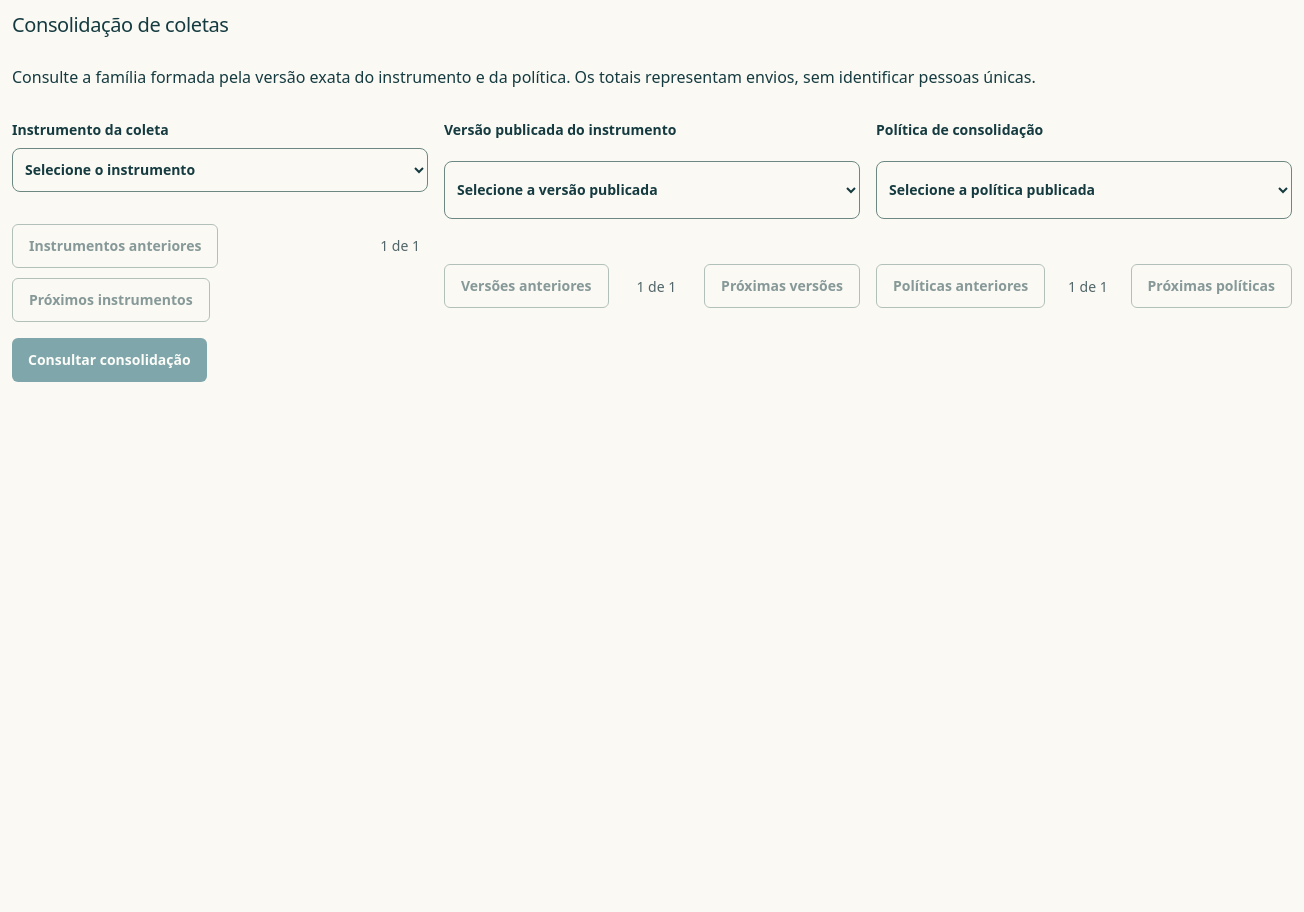
Scenario: conserva seleção após 503 e permite repetir a consulta
The width and height of the screenshot is (1304, 912).
Select "Instrumento coletivo" in the dropdown labelled "Instrumento da coleta" at (220,170), box [12,148,428,192]
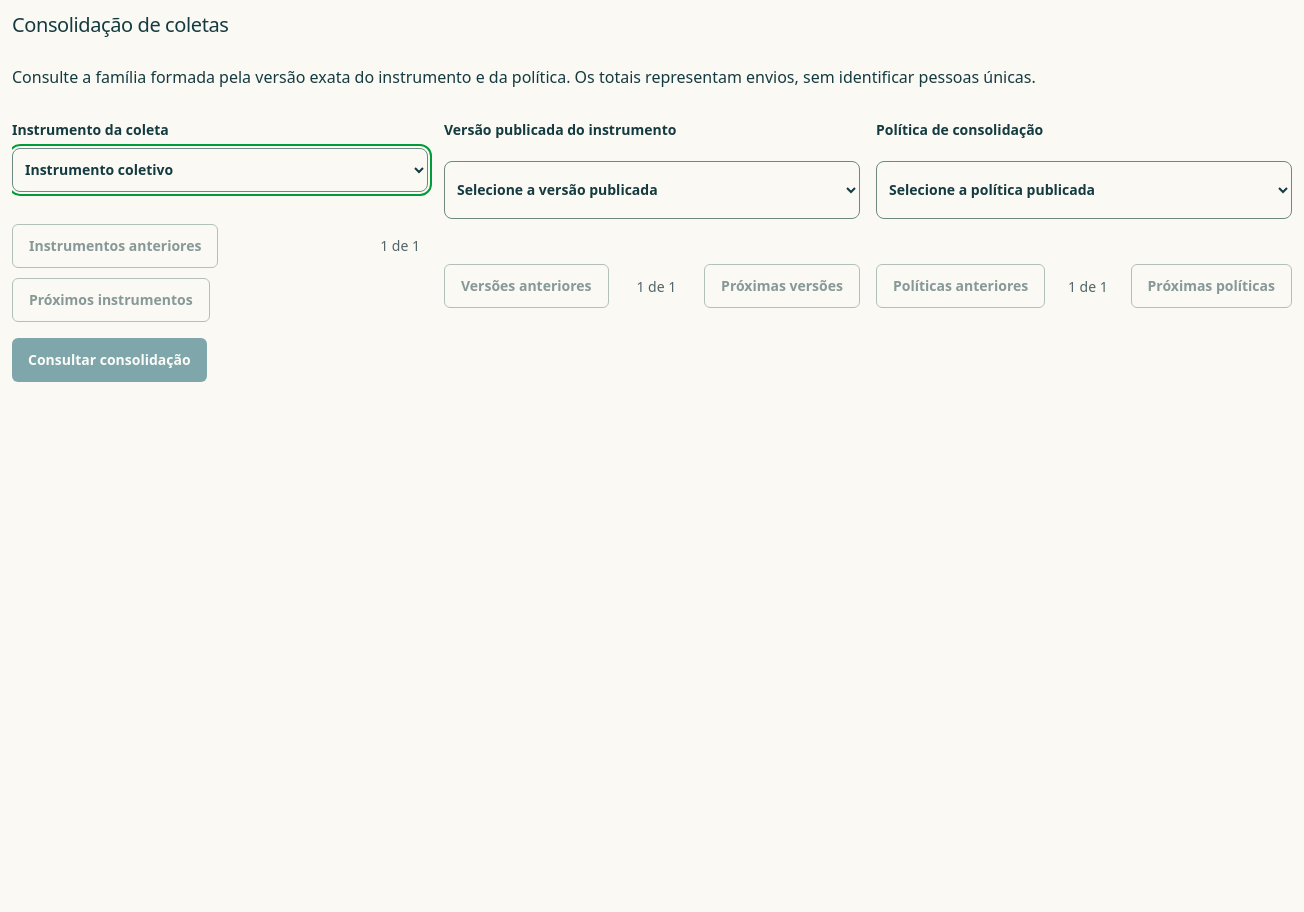
Select "Planejamento publicado · v2 · Demonstração" in the dropdown labelled "Versão publicada do instrumento" at (652,190), box [444,161,860,219]
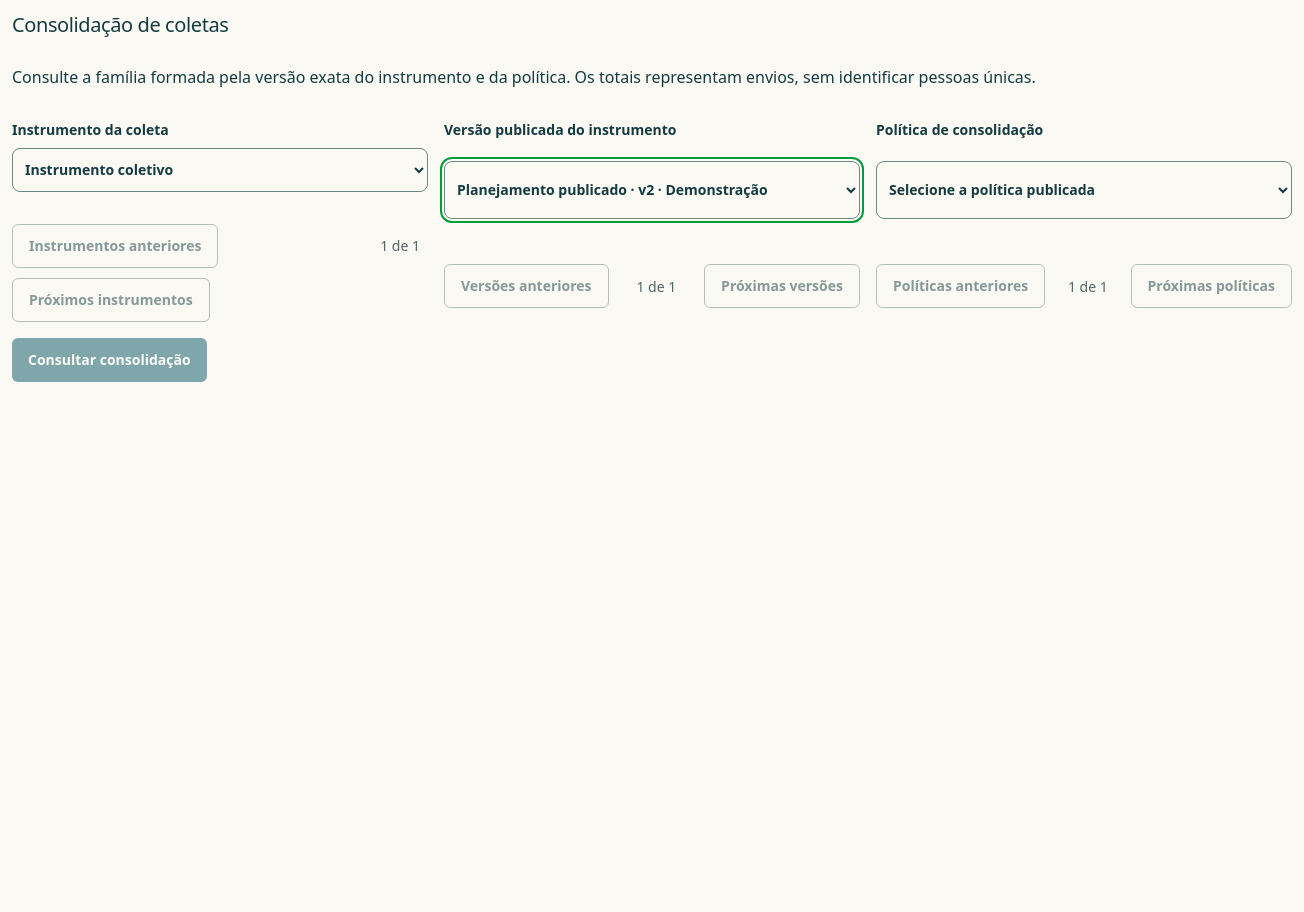
Select "Política v3 · Demonstração" in the dropdown labelled "Política de consolidação" at (1084,190), box [876,161,1292,219]
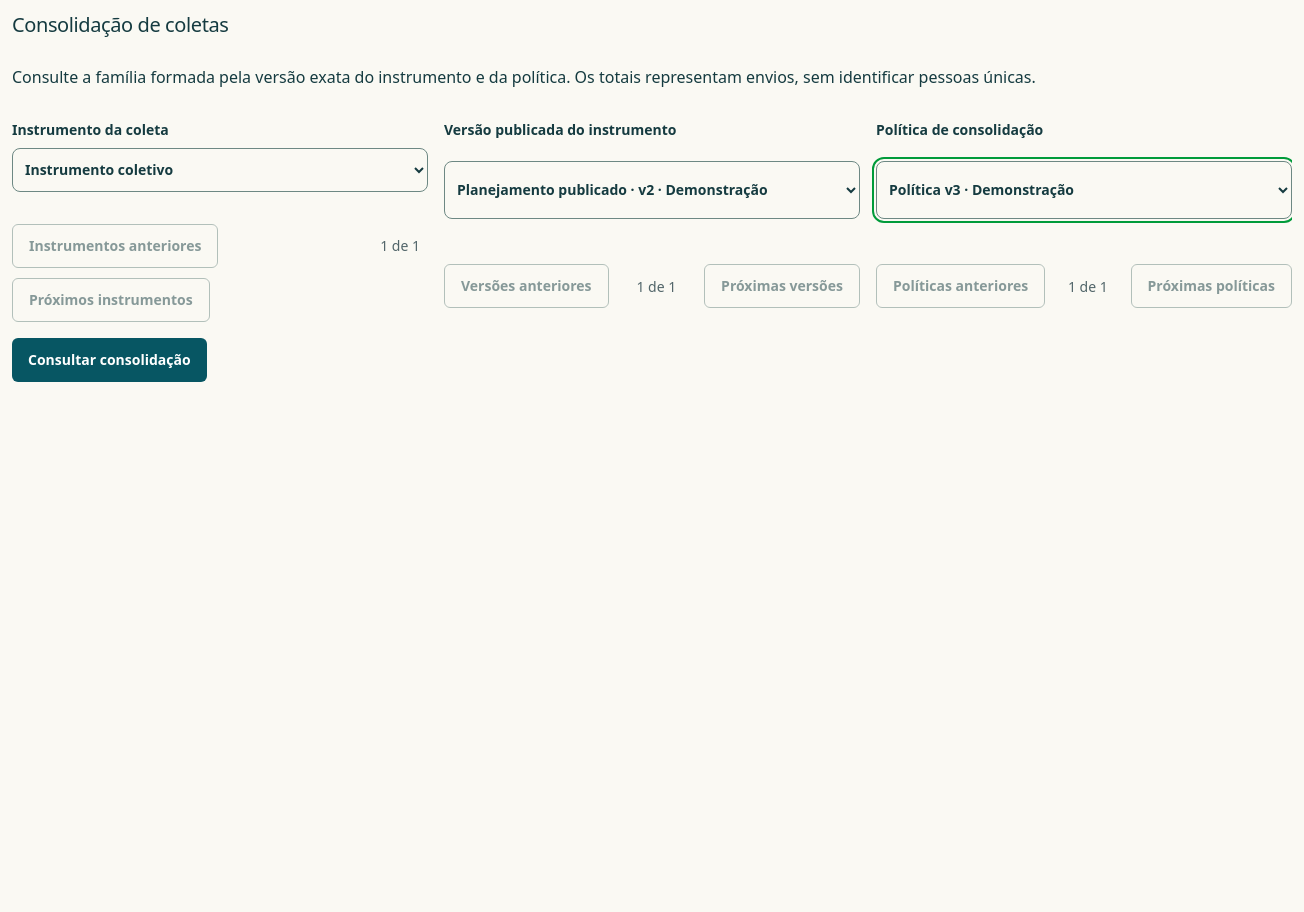
Click the button "Consultar consolidação" at (109,360), box [12,338,207,382]
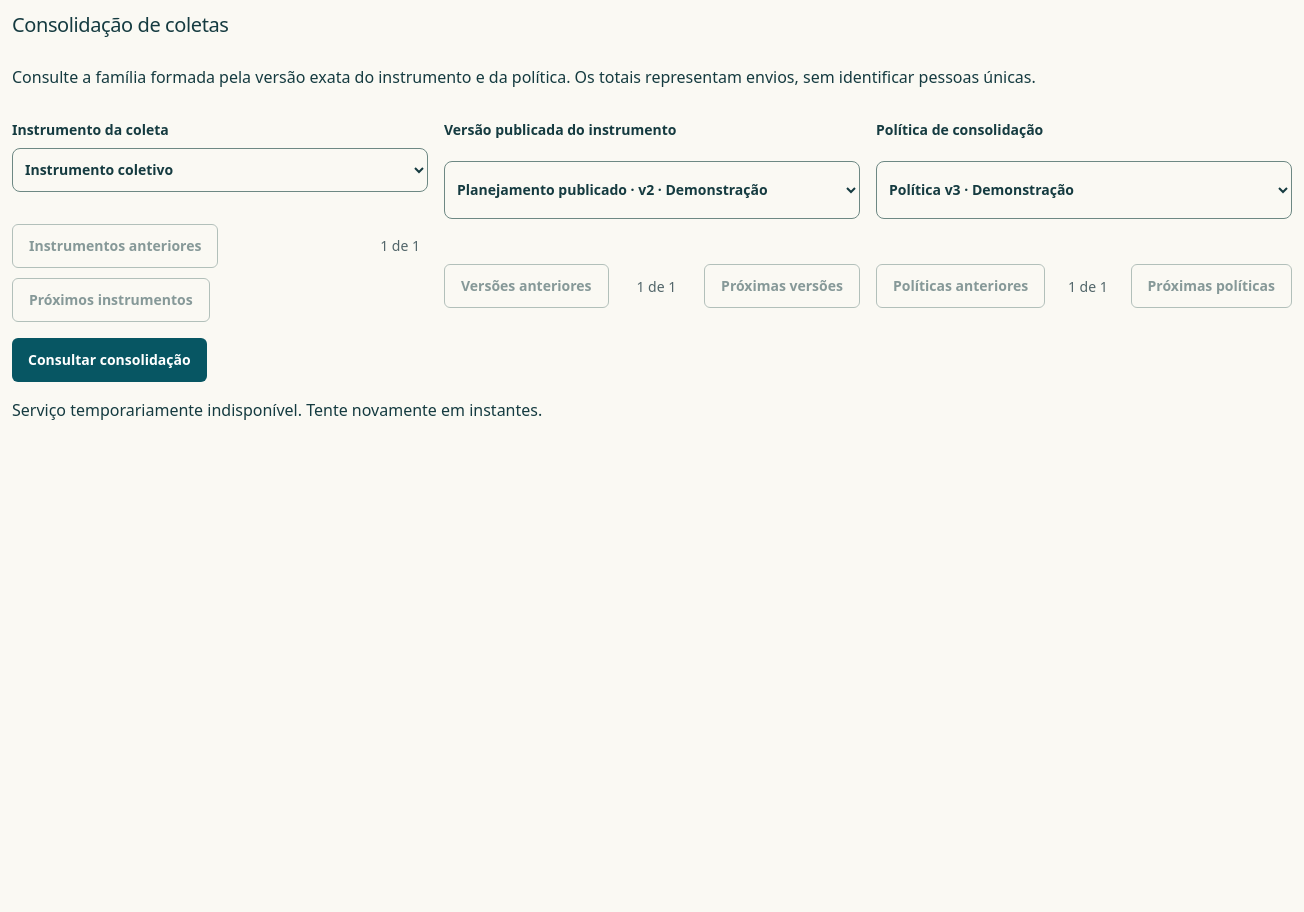
Check: the message shows "temporariamente indisponível", box [12,399,542,421]
Click the button "Consultar consolidação" at (109,360), box [12,338,207,382]
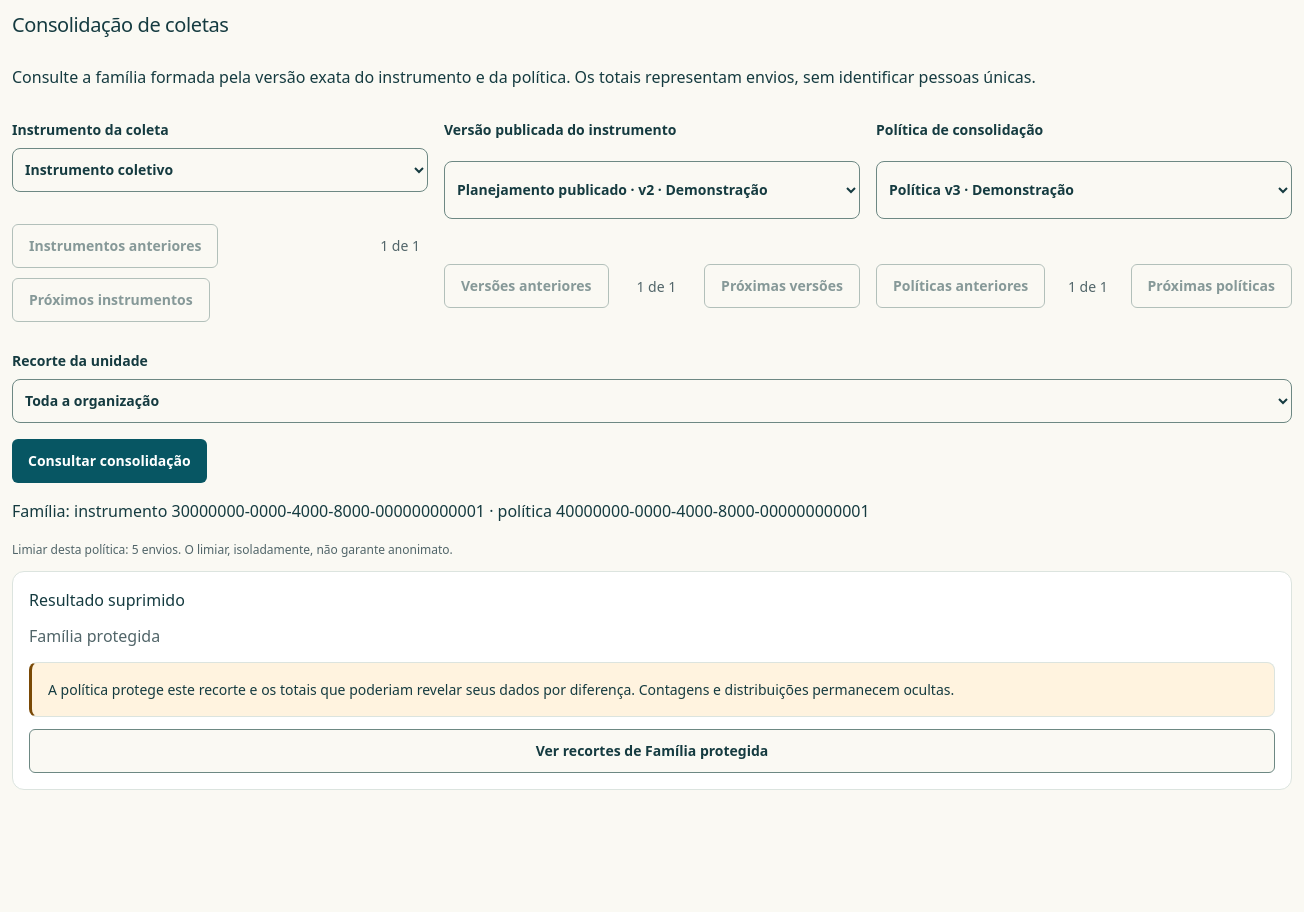
Check: the text "Família protegida" is shown, box [29,625,160,647]
